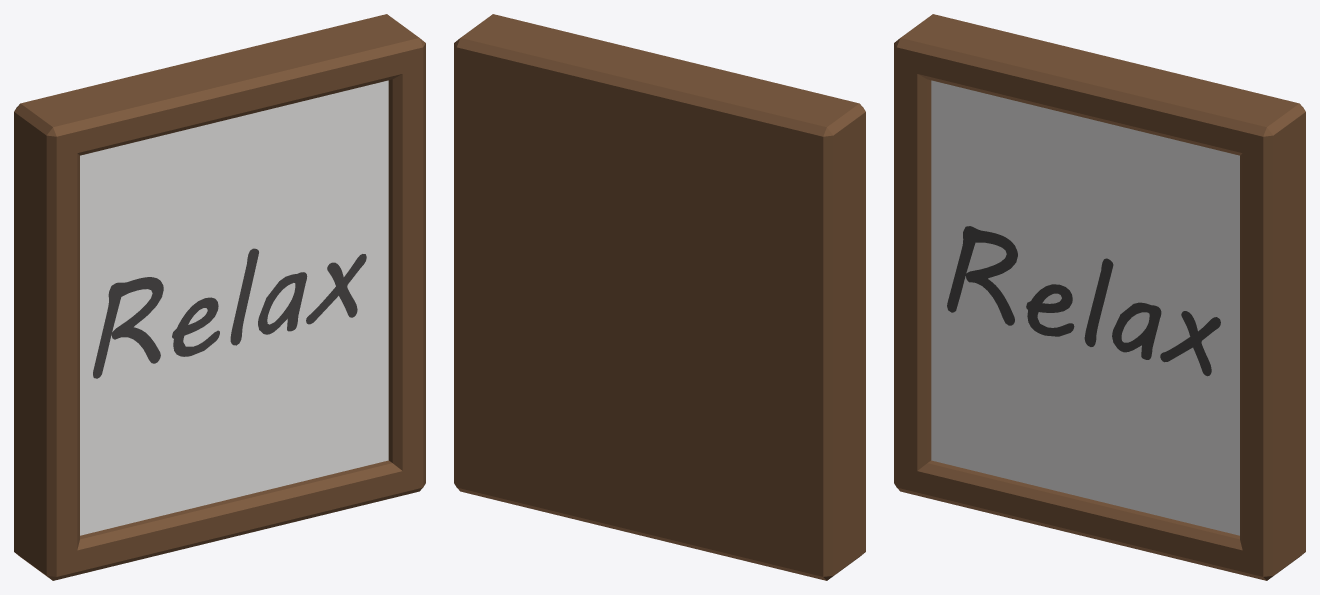
File: Picture_7.glb
3 renders of one model, left to right at view 1: azimuth 30°, elevation 25°; view 2: azimuth 150°, elevation 25°; view 3: azimuth 330°, elevation 25°, orthographic.
Visible parts, largest first — view 1: Picture_7; view 2: Picture_7; view 3: Picture_7.
Part boxes in pixels (box(x1,y1,x2,y2)): Picture_7: box(14, 14, 425, 580); Picture_7: box(454, 14, 865, 580); Picture_7: box(894, 14, 1305, 580).
Bounding box in the file's own units: 0.4992 × 0.5705 × 0.0913.
1 material, 1 textured.
